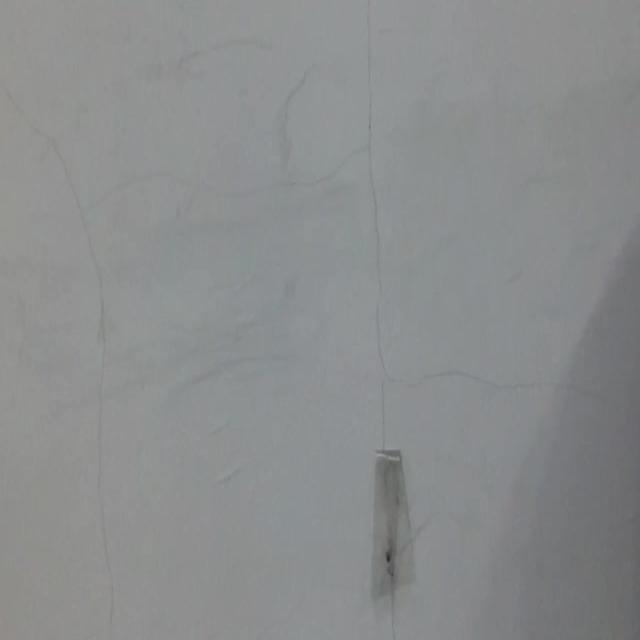Crack: (5, 96, 146, 632), (351, 0, 399, 446), (405, 347, 640, 432), (163, 146, 351, 212)
